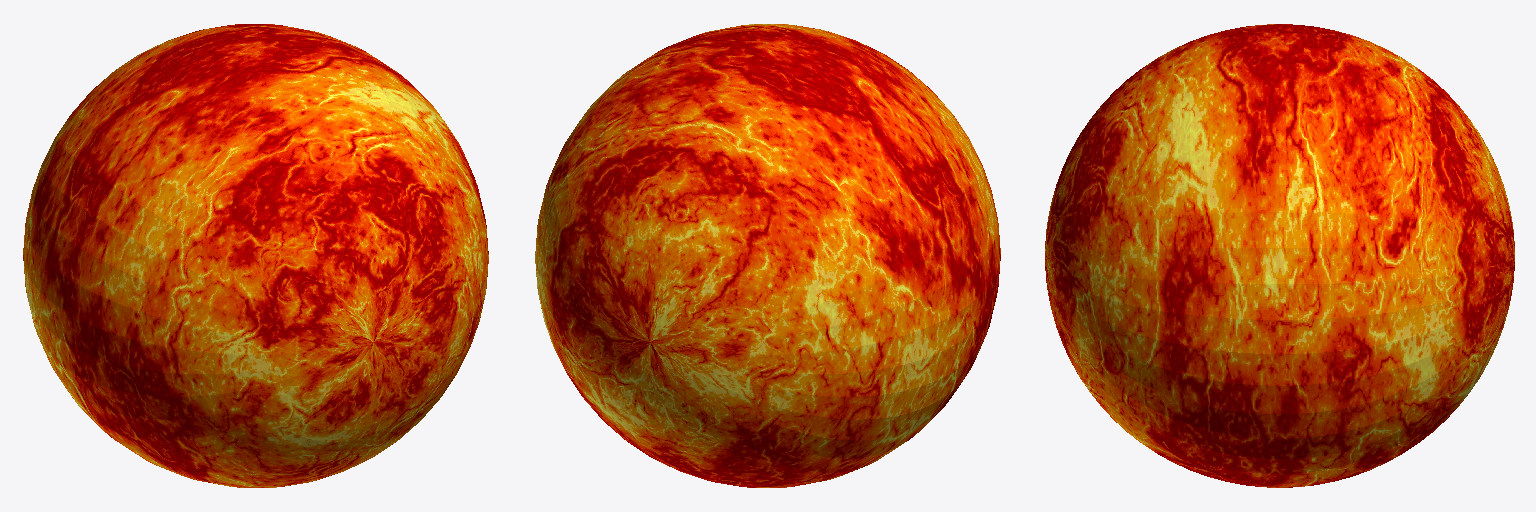
3 views of the same model, side by side, from view 1: azimuth 30°, elevation 25°; view 2: azimuth 150°, elevation 25°; view 3: azimuth 270°, elevation 25° (orthographic).
Parts seen in each view (by area): view 1: pSphere2_pSphereShape2; view 2: pSphere2_pSphereShape2; view 3: pSphere2_pSphereShape2.
Part boxes in pixels (x1,y1,x2,y2): pSphere2_pSphereShape2: (23,24,488,487); pSphere2_pSphereShape2: (535,24,1000,487); pSphere2_pSphereShape2: (1045,24,1514,487).
Size of the model in its own units: 16826 by 16826 by 17069.
Materials: 1 (1 with a texture image).